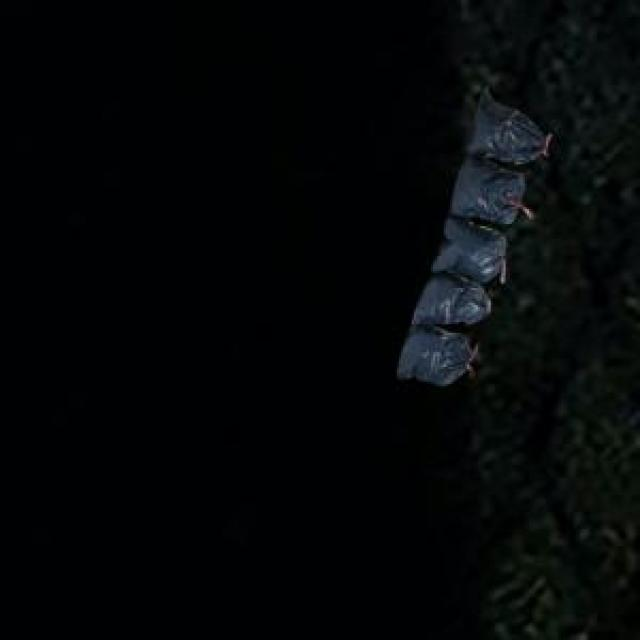Trashbag: (392, 320, 486, 390), (462, 90, 548, 158), (425, 210, 507, 280), (404, 276, 494, 334), (447, 163, 532, 224)
